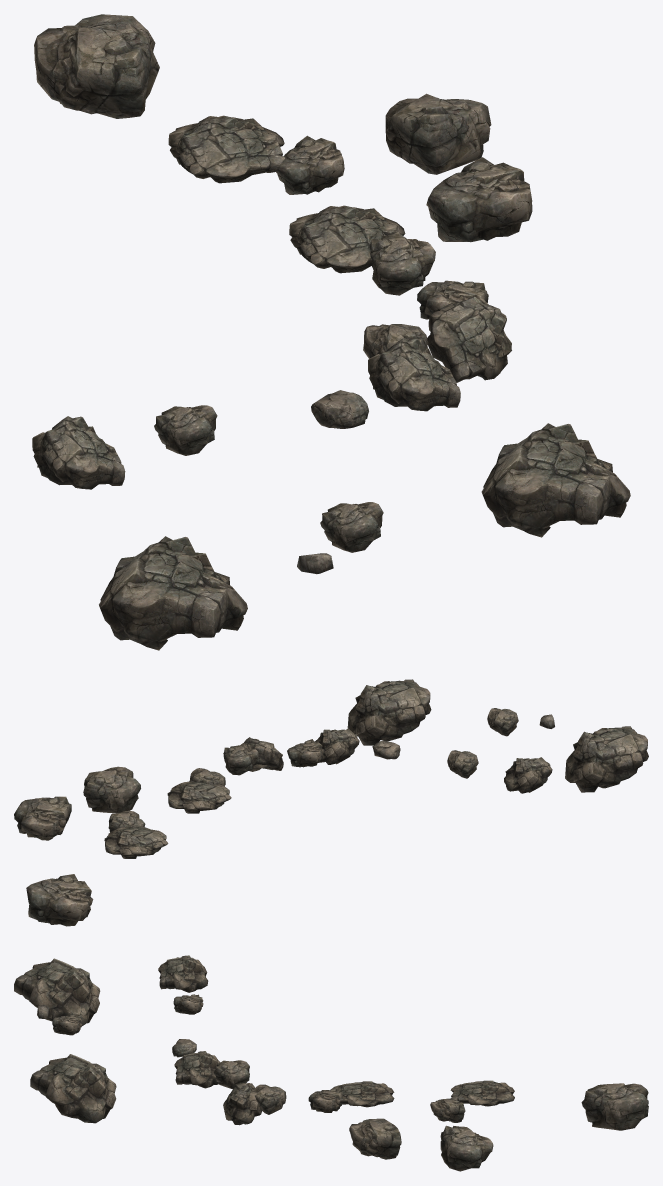
The model's file is Rocks_Harbor.fbx.
3 renders of one model, top to bottom at view 1: azimuth 30°, elevation 25°; view 2: azimuth 150°, elevation 25°; view 3: azimuth 270°, elevation 25°, orthographic. The views are drawn at different scales.
Parts seen in each view (by area): view 1: Rock_F__3_, Rock_F__2_, Rock_G_01__8_, Rock_G_01__6_, Rock_G_01__7_, Rock_F__6_, Rock_F__4_, Rock_F__5_, Rock_F, Rock_F__1_, Rock_G_01__4_, Rock_G_01__5_ (+5 smaller); view 2: Rock_F__2_, Rock_F__3_, Rock_G_01__8_, Rock_G_01__6_, Rock_G_01__7_, Rock_F__6_, Rock_F__5_, Rock_F, Rock_F__1_, Rock_F__4_, Rock_G_01__3_, Rock_G_01__1_ (+5 smaller); view 3: Rock_F__3_, Rock_F__2_, Rock_G_01__8_, Rock_G_01__7_, Rock_G_01__6_, Rock_F, Rock_F__6_, Rock_F__1_, Rock_F__5_, Rock_F__4_, Rock_G_01__1_, Rock_G_01__3_ (+5 smaller).
Part boxes in pixels (<box>): Rock_F__3_: <box>481,423,630,537</box>; Rock_F__2_: <box>99,536,247,650</box>; Rock_G_01__8_: <box>34,14,159,118</box>; Rock_G_01__6_: <box>426,157,532,242</box>; Rock_G_01__7_: <box>385,93,491,174</box>; Rock_F__6_: <box>168,115,284,183</box>; Rock_F__4_: <box>427,295,511,382</box>; Rock_F__5_: <box>289,205,405,273</box>; Rock_F: <box>32,416,125,489</box>; Rock_F__1_: <box>368,337,460,411</box>; Rock_G_01__4_: <box>370,233,435,295</box>; Rock_G_01__5_: <box>276,135,344,194</box>; Rock_F__2_: <box>565,726,648,792</box>; Rock_F__3_: <box>347,679,431,745</box>; Rock_G_01__8_: <box>26,874,93,926</box>; Rock_G_01__6_: <box>83,766,140,813</box>; Rock_G_01__7_: <box>14,796,71,840</box>; Rock_F__6_: <box>104,825,168,858</box>; Rock_F__5_: <box>167,781,231,813</box>; Rock_F: <box>504,757,552,793</box>; Rock_F__1_: <box>314,728,359,764</box>; Rock_F__4_: <box>240,737,283,771</box>; Rock_G_01__3_: <box>223,745,258,775</box>; Rock_G_01__1_: <box>287,739,323,767</box>; Rock_F__3_: <box>30,1054,116,1123</box>; Rock_F__2_: <box>14,958,100,1026</box>; Rock_G_01__8_: <box>581,1083,648,1130</box>; Rock_G_01__7_: <box>440,1125,493,1171</box>; Rock_G_01__6_: <box>349,1118,401,1159</box>; Rock_F: <box>158,955,208,992</box>; Rock_F__6_: <box>450,1080,514,1106</box>; Rock_F__1_: <box>174,1051,220,1088</box>; Rock_F__5_: <box>330,1081,394,1107</box>; Rock_F__4_: <box>223,1083,261,1125</box>; Rock_G_01__1_: <box>213,1060,249,1089</box>; Rock_G_01__3_: <box>254,1084,286,1114</box>.
Size of the model in its own units: 5199 by 866 by 7271.
